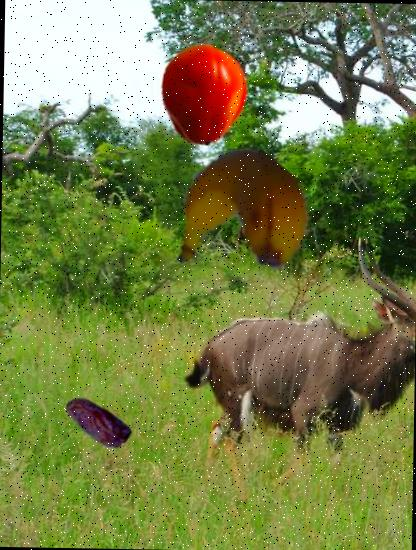Banana: (167, 148, 309, 290)
Dates: (61, 386, 132, 458)
Tomato: (152, 43, 254, 145)
